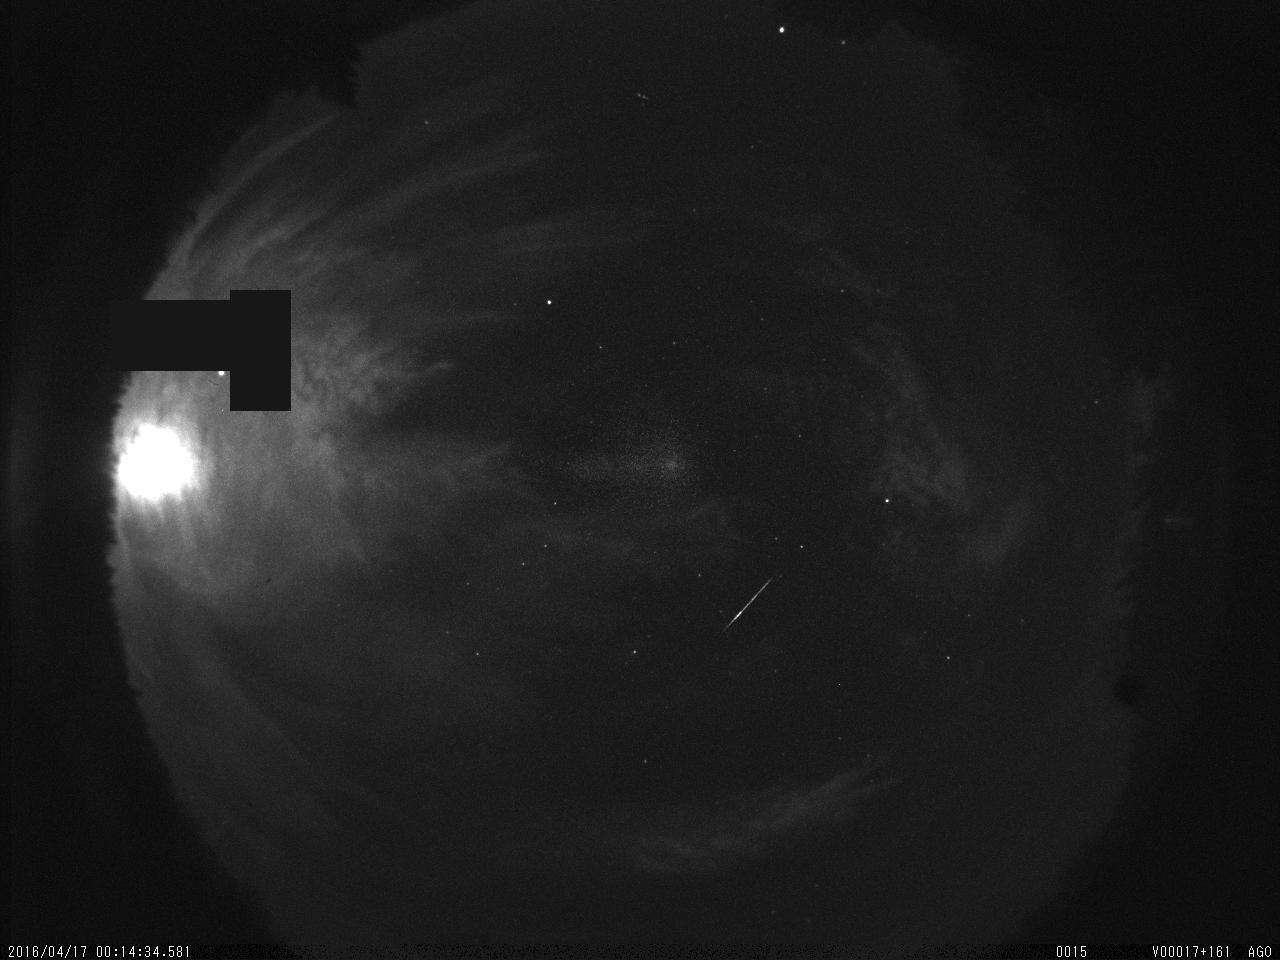Meteor: (706, 567, 785, 644)
